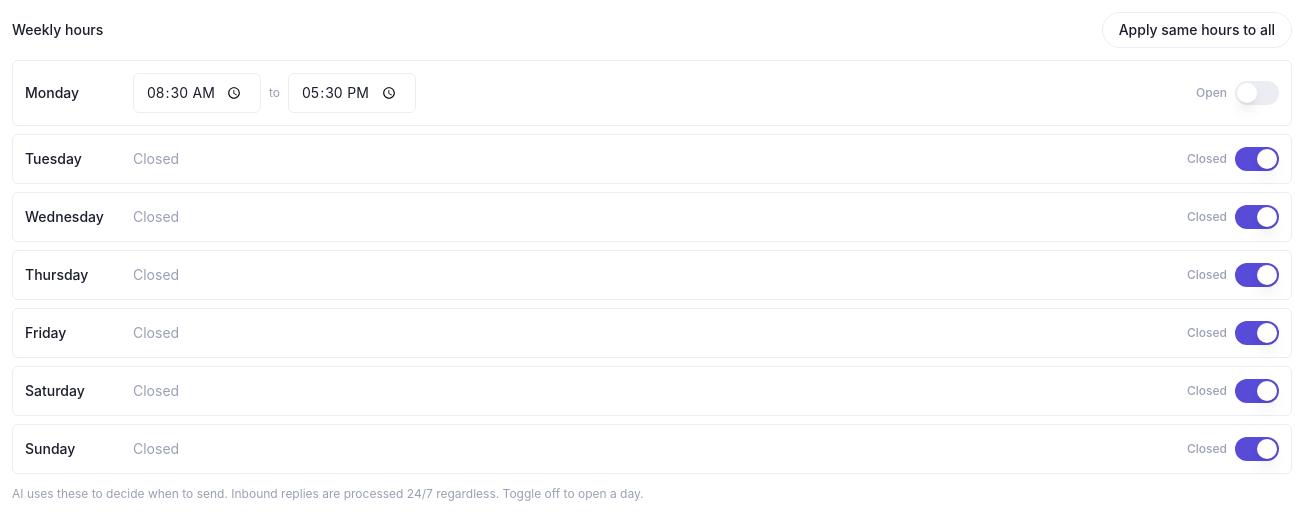
Test: WeeklyHoursEditor — Decision A (closed-day hours preservation) › toggling Monday open→closed→open restores the previous open/close
Check: the time field named "Monday open time" holds "08:30", box 133,73 -> 261,113
Check: the time field named "Monday close time" holds "17:30", box 288,73 -> 416,113
Click the switch named "Monday closed toggle. Toggle off to open this day.": (1257, 93) 1235,81 -> 1279,105
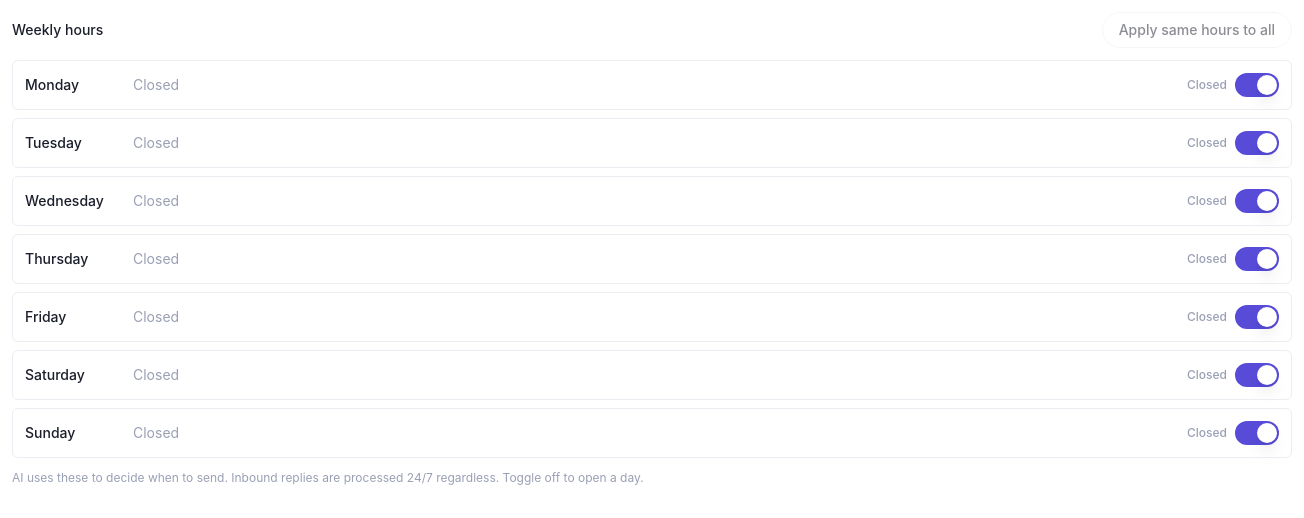
Check: the time field labelled "Monday open time" is gone
Toggle Monday open again — TimePickers reappear with the SAME values
Click the switch named "Monday closed toggle. Toggle off to open this day.": (1257, 85) 1235,73 -> 1279,97
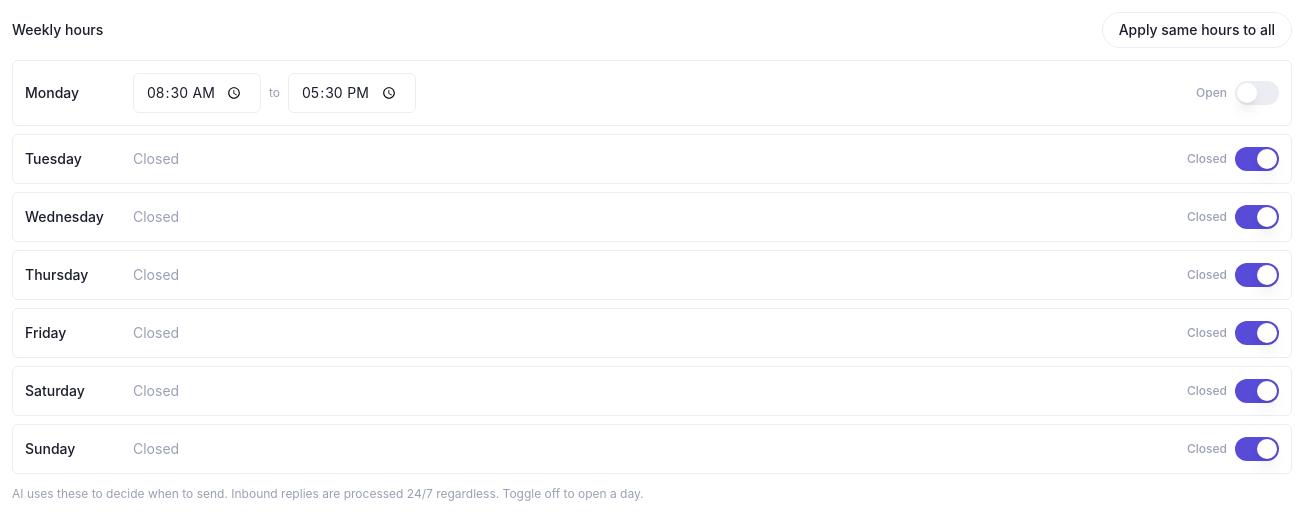
Check: the time field named "Monday open time" holds "08:30", box 133,73 -> 261,113
Check: the time field named "Monday close time" holds "17:30", box 288,73 -> 416,113
